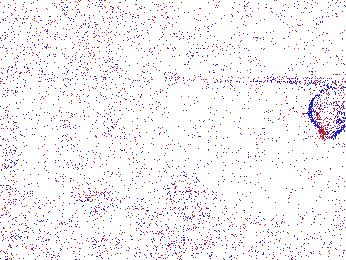flame jellyfish: (48, 184, 94, 230), (309, 86, 346, 140), (88, 186, 132, 229)
